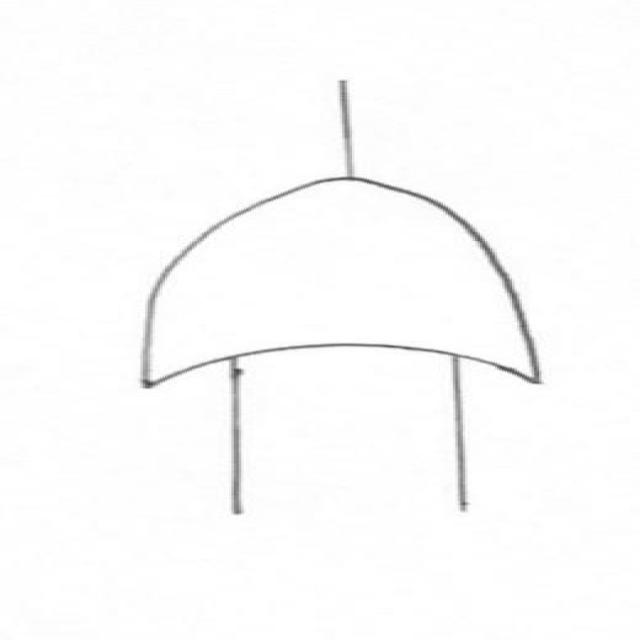OR: (73, 153, 614, 412)
